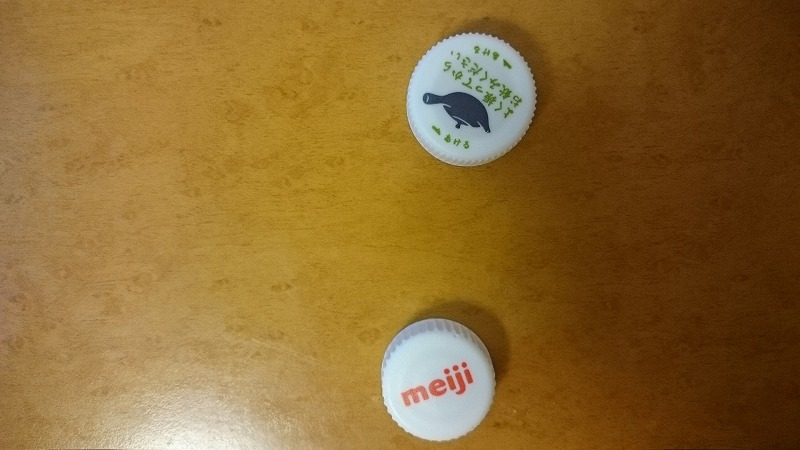A: (395, 29, 542, 166)
B: (369, 316, 504, 443)
